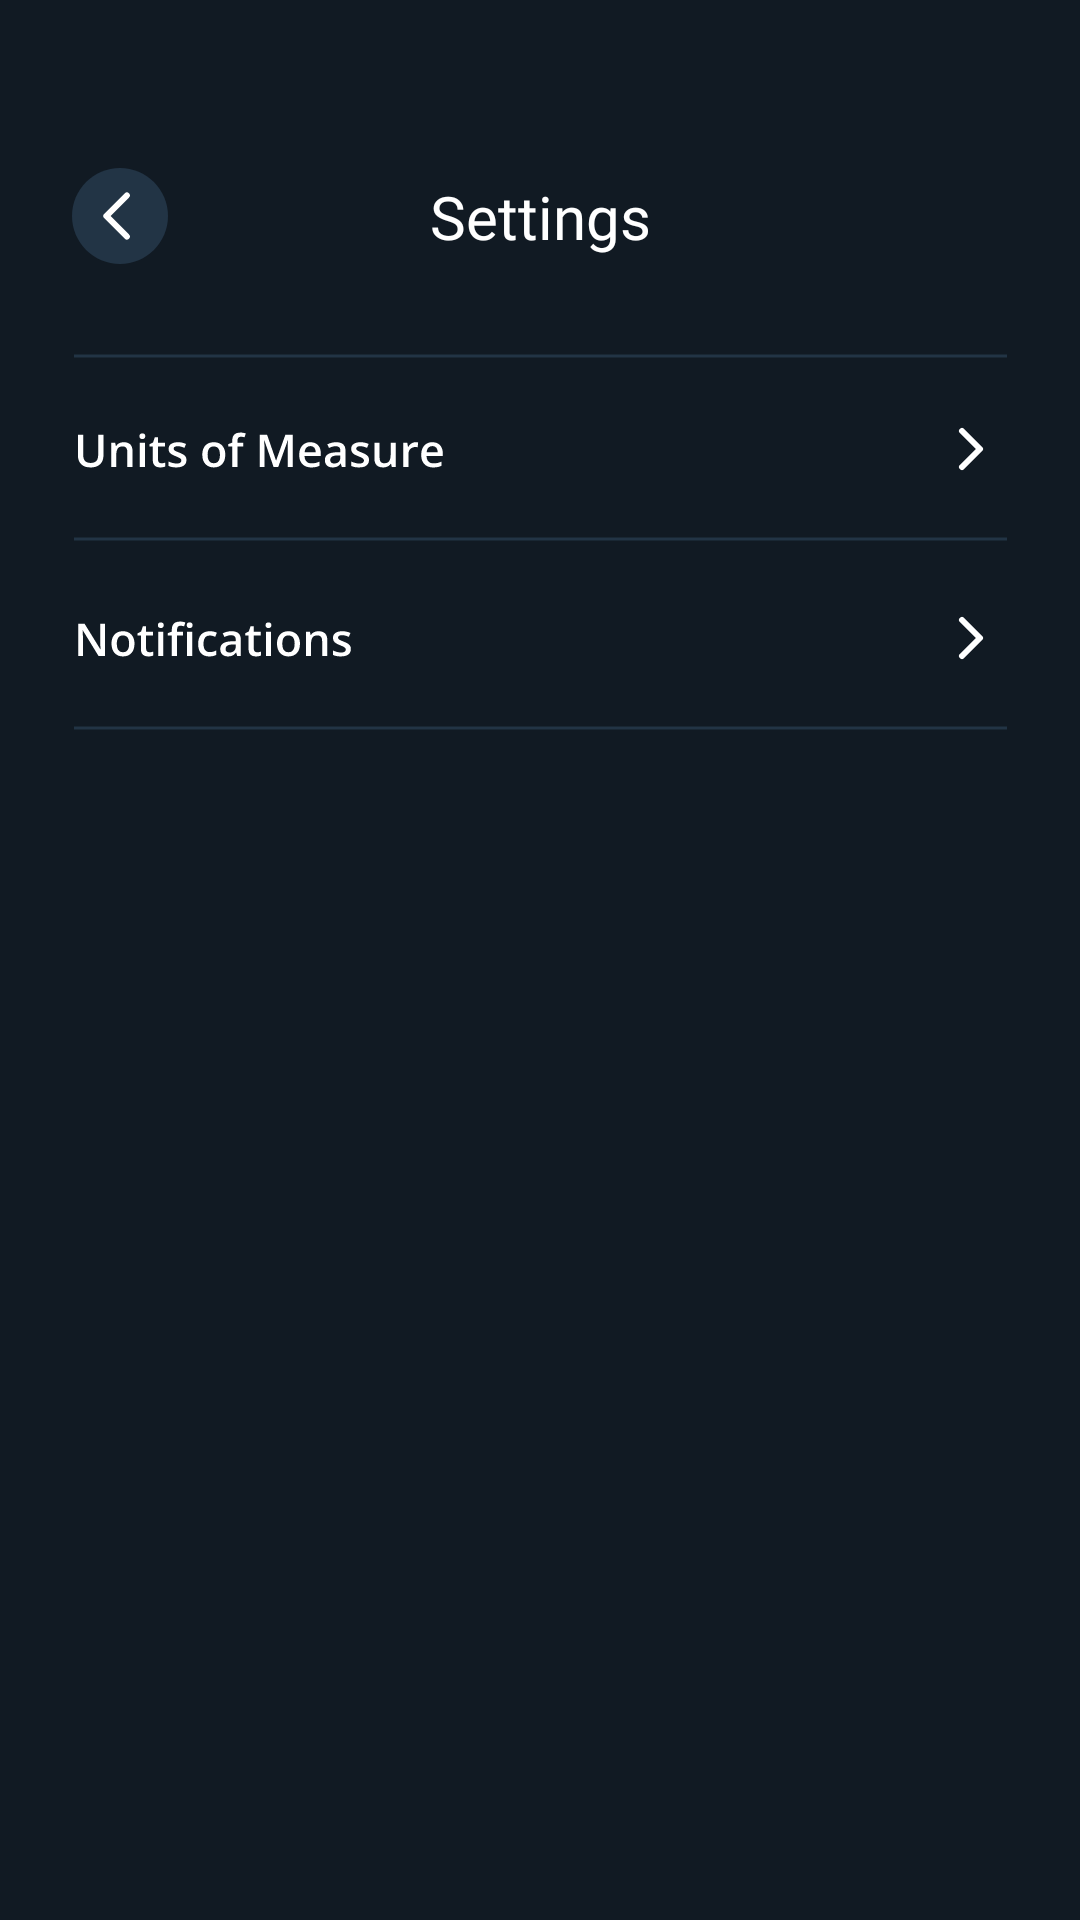

Screen size 1080px×1920px. Icon name, then its box in pixels as detection(x1, y1, x2, y2):
profile back: detection(72, 168, 168, 264)
